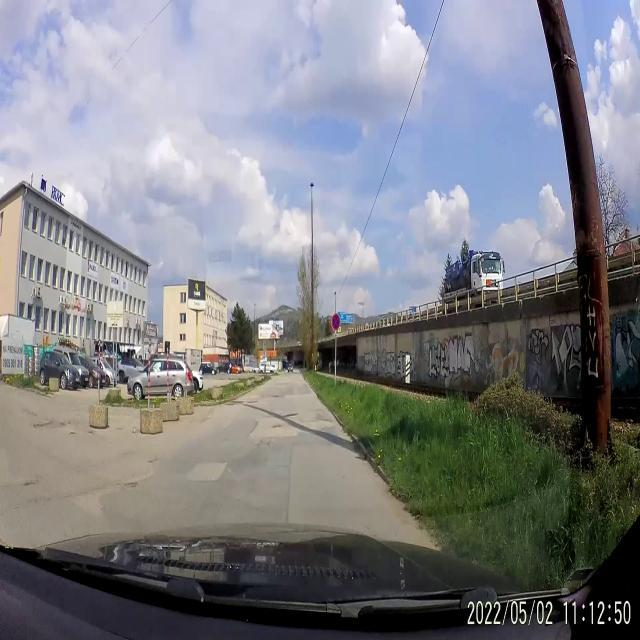Pothole: (120, 472, 144, 494), (29, 420, 71, 432), (270, 418, 288, 438), (145, 455, 159, 468)
